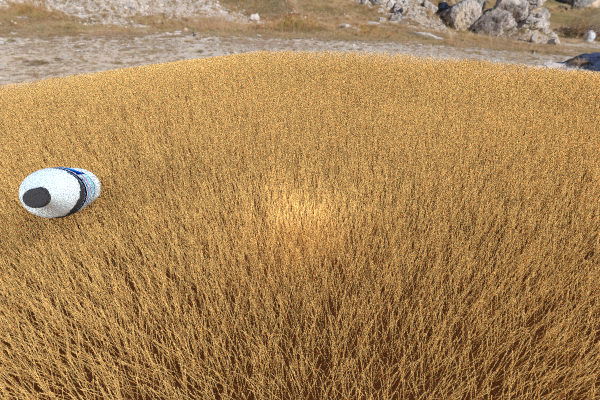Plastic Bottle: (18, 167, 100, 218), (286, 107, 341, 138), (325, 65, 357, 83)
